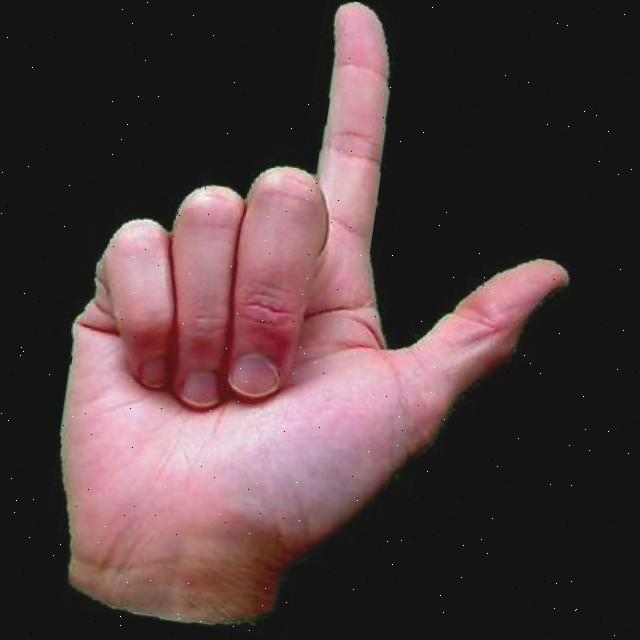l: (8, 0, 604, 640)
